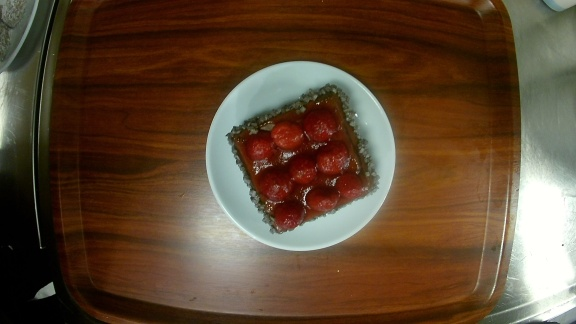cileklipasta: (206, 60, 398, 251)
